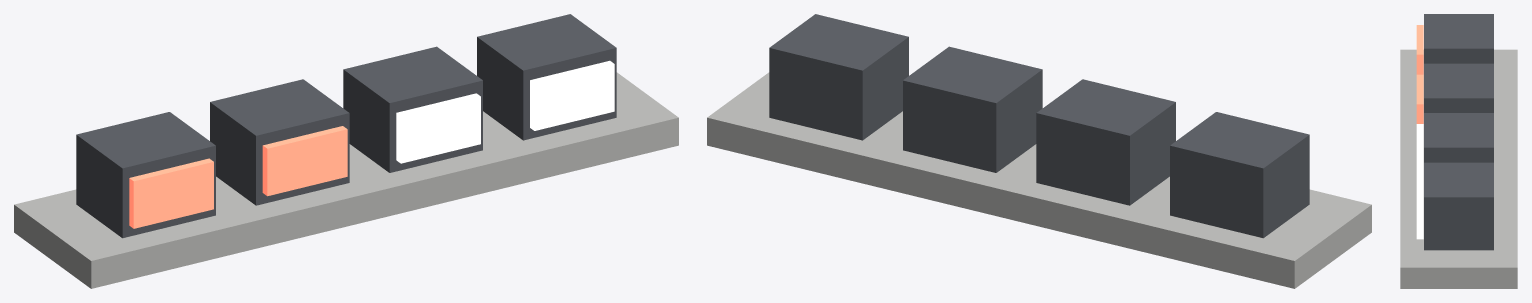
The model's file is aircraft-fleet-and-airfield-papi-unit-c9e07d67__32830.glb.
The picture shows the model from 3 angles, left to right: view 1: azimuth 30°, elevation 25°; view 2: azimuth 150°, elevation 25°; view 3: azimuth 270°, elevation 25°; orthographic projection. The views are drawn at different scales.
Visible parts, largest first — view 1: papi-unit; view 2: papi-unit; view 3: papi-unit.
Boxes of the visible parts, bbox=[...] form: papi-unit: bbox=[14, 14, 678, 288]; papi-unit: bbox=[707, 14, 1371, 288]; papi-unit: bbox=[1400, 14, 1517, 288].
Bounding box in the file's own units: 4.4 × 0.6999 × 1.
